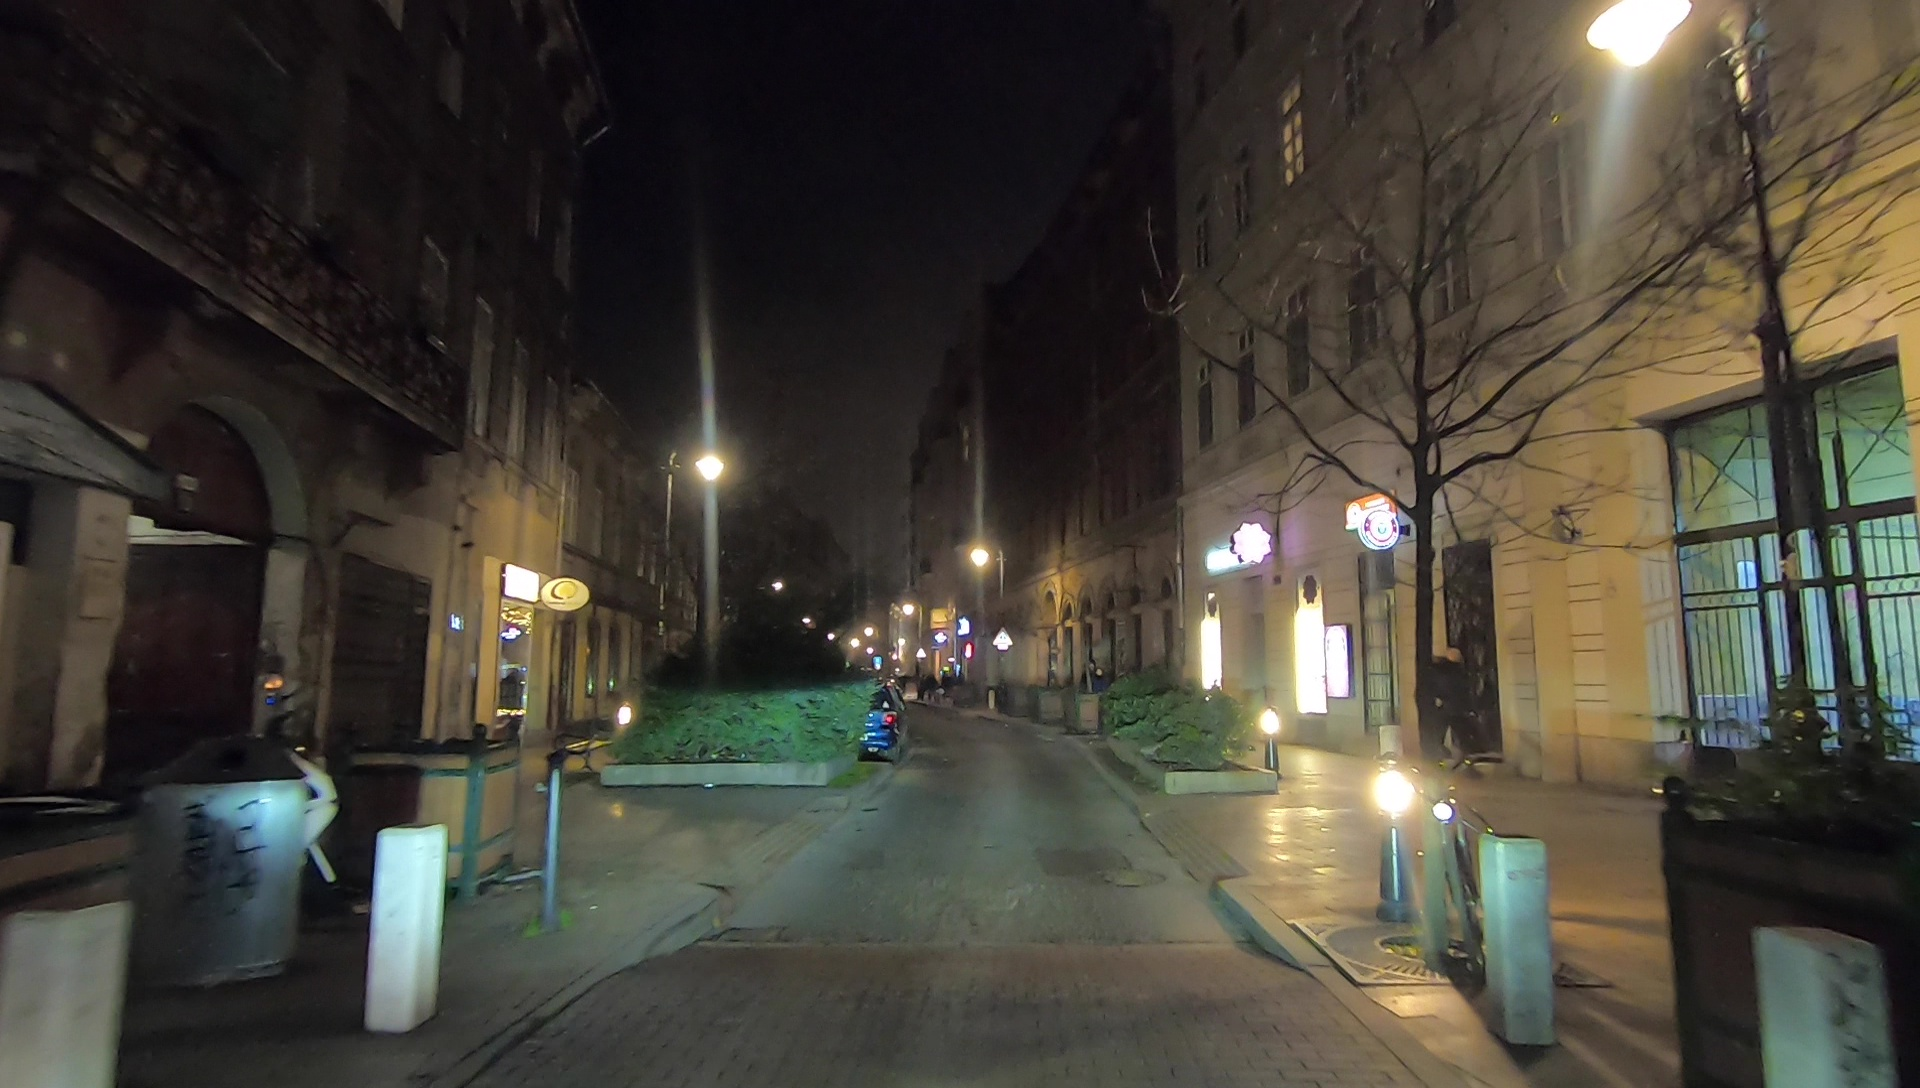person: (1425, 641, 1473, 771)
